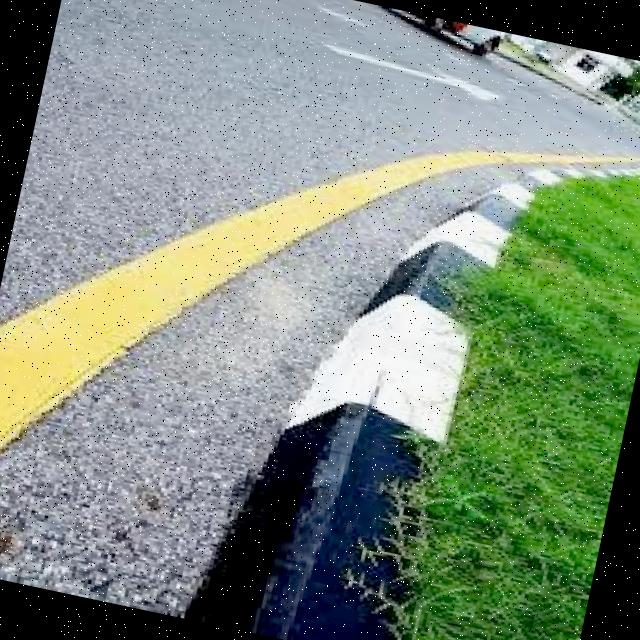curb: (210, 258, 493, 640), (374, 147, 559, 314)
